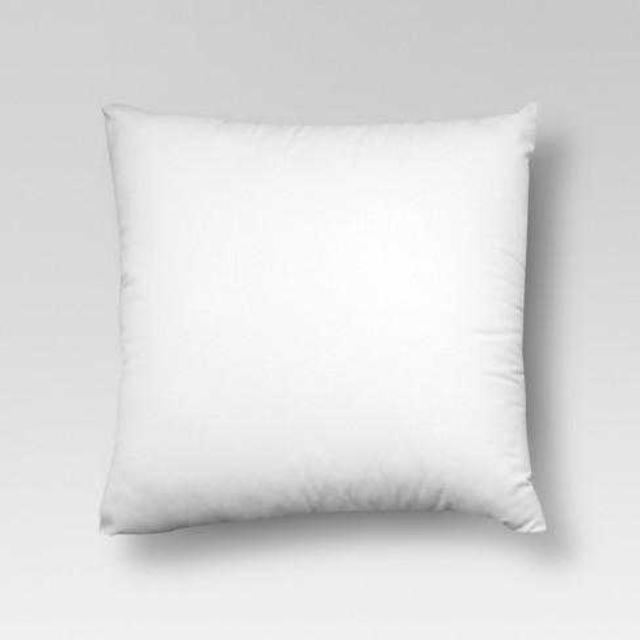pillow: (98, 98, 546, 536)
